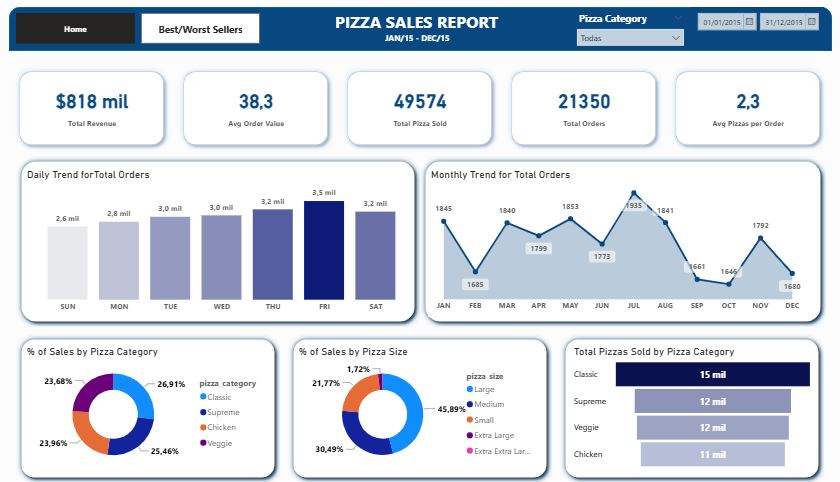

What the dashboard file says about the page in this screenshot:
{"tool":"powerbi","page":{"name":"Home","canvas":[1500,820],"ordinal":0},"visuals":[{"type":"cardVisual","fields":{"Data":["pizza_sales pizza_sales.Total Revenue","pizza_sales pizza_sales.Avg Order Value","pizza_sales pizza_sales.Total Pizza Sold","pizza_sales pizza_sales.Total Orders","pizza_sales pizza_sales.Avg Pizzas per Order"]},"box":[75.4,127.9,1349.7,155.8],"z":0},{"type":"shape","box":[75.4,39.4,1349.7,72],"z":1000},{"type":"textbox","box":[605,40,288.3,51.7],"z":2000},{"type":"textbox","box":[686.7,75,125,33.3],"z":3000},{"type":"shape","box":[86.9,283.7,662.6,280.4],"z":4000},{"type":"columnChart","title":"Daily Trend forTotal Orders","fields":{"Category":["pizza_sales pizza_sales.Order Day"],"Y":["pizza_sales pizza_sales.Total Orders"]},"box":[100,303.4,649.4,246],"z":5000},{"type":"shape","box":[86.9,575.6,433,244.4],"z":6000},{"type":"donutChart","title":"% of Sales by Pizza Category","fields":{"Category":["pizza_sales pizza_sales.pizza_category"],"Y":["pizza_sales pizza_sales.Total Revenue"]},"box":[100,593.7,401.8,208.3],"z":7000},{"type":"shape","box":[749.5,283.7,665.8,280.4],"z":8000},{"type":"areaChart","title":"Monthly Trend for Total Orders","fields":{"Y":["pizza_sales pizza_sales.Total Orders"],"Category":["pizza_sales pizza_sales.Order Month"]},"box":[762.6,303.4,623.2,244.4],"z":9000},{"type":"shape","box":[533,575.6,433,244.4],"z":10000},{"type":"shape","box":[979.1,575.6,433,244.4],"z":11000},{"type":"funnel","title":"Total Pizzas Sold by Pizza Category","fields":{"Y":["pizza_sales pizza_sales.Total Pizza Sold"],"Category":["pizza_sales pizza_sales.pizza_category"]},"box":[997.1,593.7,401.8,208.3],"z":12000},{"type":"donutChart","title":"% of Sales by Pizza Size","fields":{"Category":["pizza_sales pizza_sales.pizza_size"],"Y":["pizza_sales pizza_sales.Total Revenue"]},"box":[546.1,593.7,403.4,208.3],"z":13000},{"type":"slicer","fields":{"Values":["pizza_sales pizza_sales.pizza_category"]},"box":[997.1,42.6,195.2,60.7],"z":14000},{"type":"slicer","fields":{"Values":["pizza_sales pizza_sales.order_date"]},"box":[1191.7,40,220,68.3],"z":15000},{"type":"pageNavigator","box":[86.7,50,400,50],"z":15001}]}

Visuals, with their boxes on the page's 1500x820 design canvas (x1, y1, x2, y2). These are canvas units, not pixel positions in the 840x482 screenshot, which may show the page scaled, cropped or inside an application window:
cardVisual - pizza_sales pizza_sales.Total Revenue x pizza_sales pizza_sales.Avg Order Value: (left=75, top=128, right=1425, bottom=284)
shape: (left=75, top=39, right=1425, bottom=111)
textbox: (left=605, top=40, right=893, bottom=92)
textbox: (left=687, top=75, right=812, bottom=108)
shape: (left=87, top=284, right=750, bottom=564)
"Daily Trend forTotal Orders" columnChart: (left=100, top=303, right=749, bottom=549)
shape: (left=87, top=576, right=520, bottom=820)
"% of Sales by Pizza Category" donutChart: (left=100, top=594, right=502, bottom=802)
shape: (left=750, top=284, right=1415, bottom=564)
"Monthly Trend for Total Orders" areaChart: (left=763, top=303, right=1386, bottom=548)
shape: (left=533, top=576, right=966, bottom=820)
shape: (left=979, top=576, right=1412, bottom=820)
"Total Pizzas Sold by Pizza Category" funnel: (left=997, top=594, right=1399, bottom=802)
"% of Sales by Pizza Size" donutChart: (left=546, top=594, right=950, bottom=802)
slicer - pizza_sales pizza_sales.pizza_category: (left=997, top=43, right=1192, bottom=103)
slicer - pizza_sales pizza_sales.order_date: (left=1192, top=40, right=1412, bottom=108)
pageNavigator: (left=87, top=50, right=487, bottom=100)
